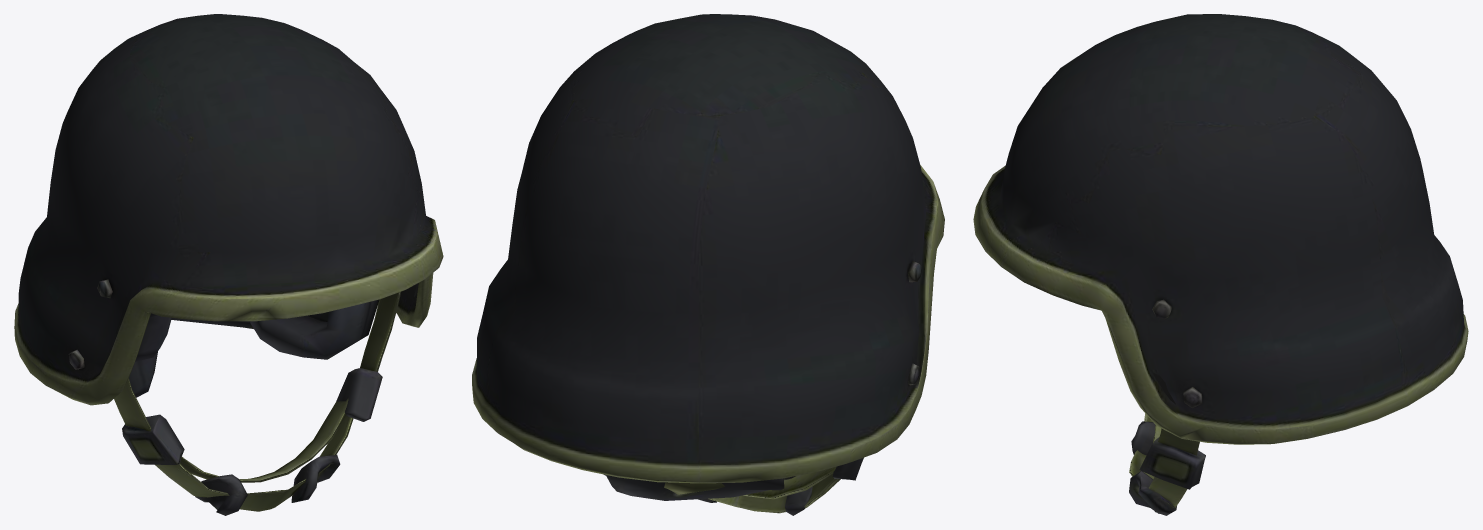
The model's file is reinforced-headwear.glb.
3 views of the same model, side by side, from view 1: azimuth 30°, elevation 25°; view 2: azimuth 150°, elevation 25°; view 3: azimuth 270°, elevation 25° (orthographic). The views are drawn at different scales.
Visible parts, largest first — view 1: reinforced-headwear; view 2: reinforced-headwear; view 3: reinforced-headwear.
Part boxes in pixels (x1,y1,x2,y2): reinforced-headwear: (14,14,443,515); reinforced-headwear: (472,14,944,515); reinforced-headwear: (973,14,1468,515).
Size of the model in its own units: 0.2396 by 0.29 by 0.282.
Materials: 1 (1 with a texture image).
